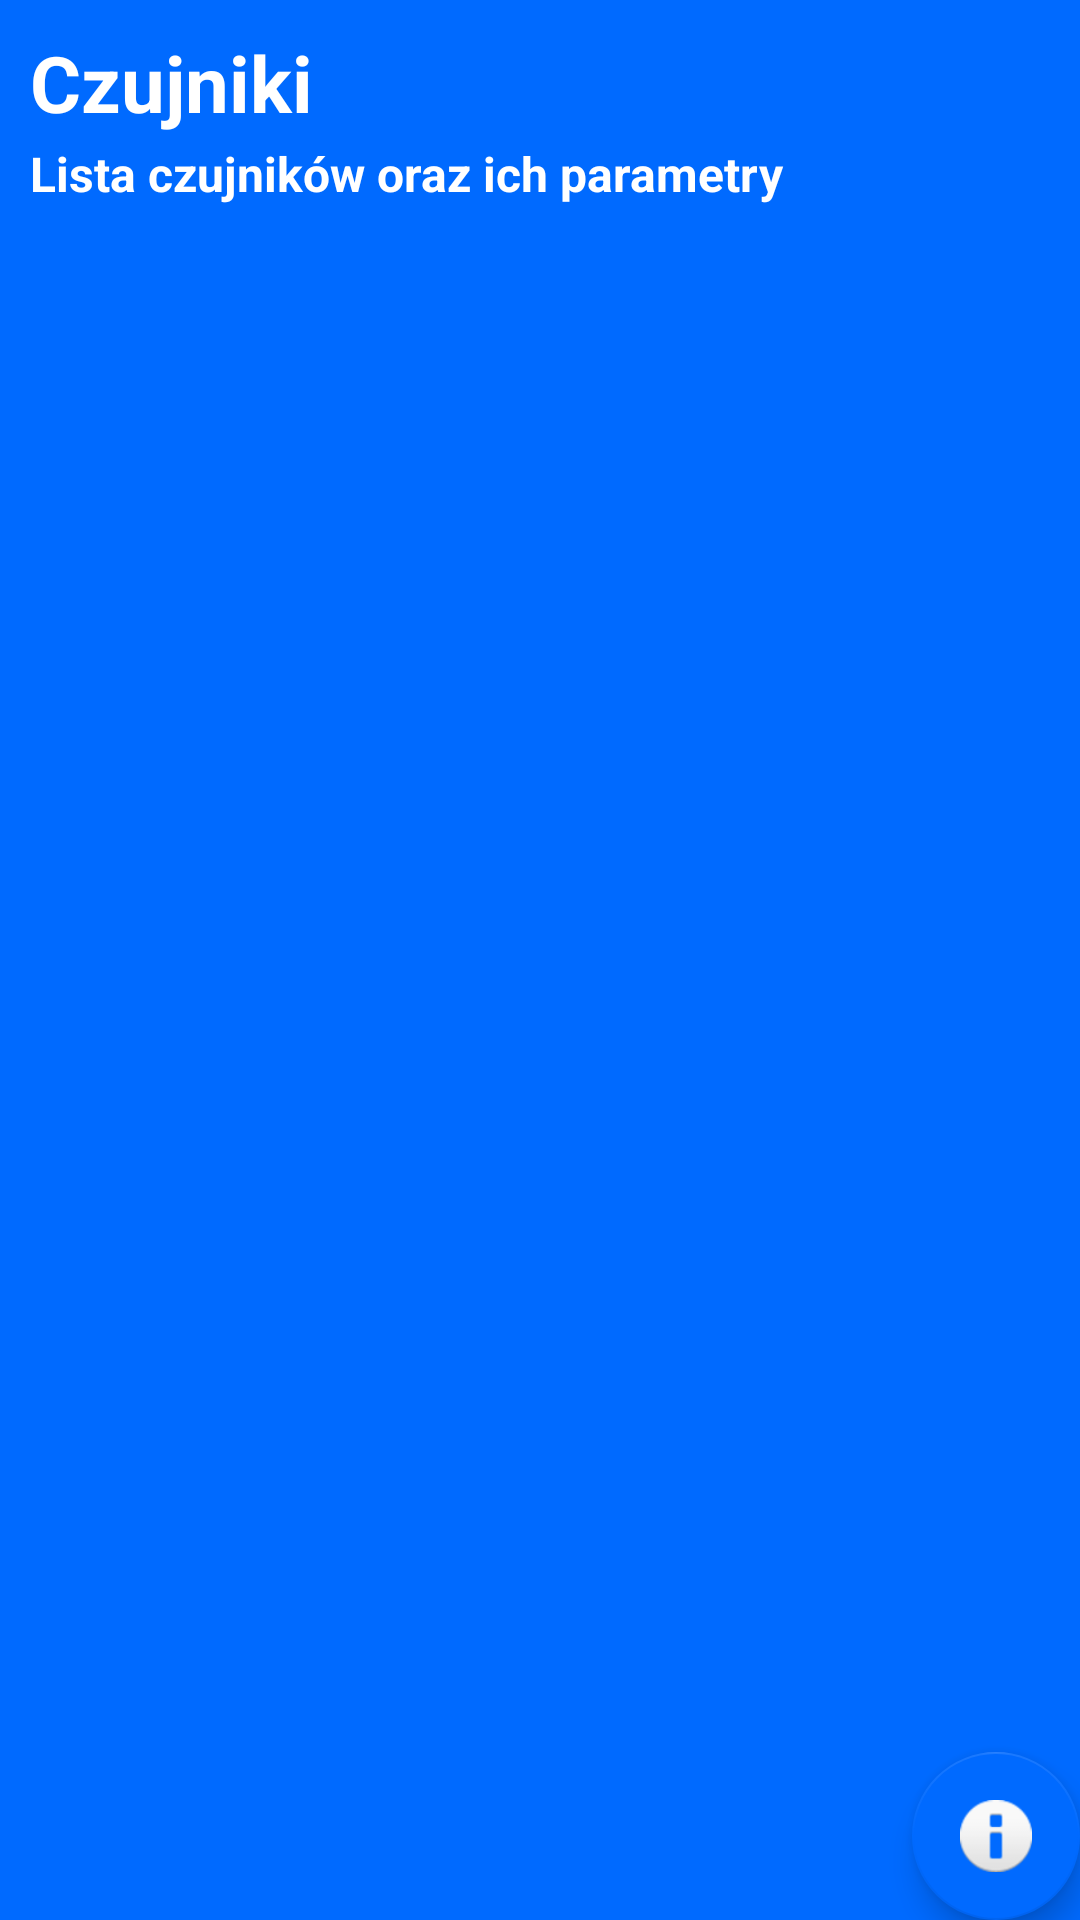

Where icons sit on this 1080w x 1920h app screen, as {"x1": x1, "y1": y1, "x2": x2, "y2": y2}:
info: {"x1": 918, "y1": 1752, "x2": 1080, "y2": 1920}
